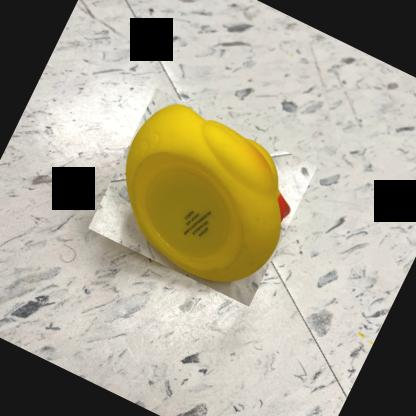duck: (88, 88, 317, 308)
